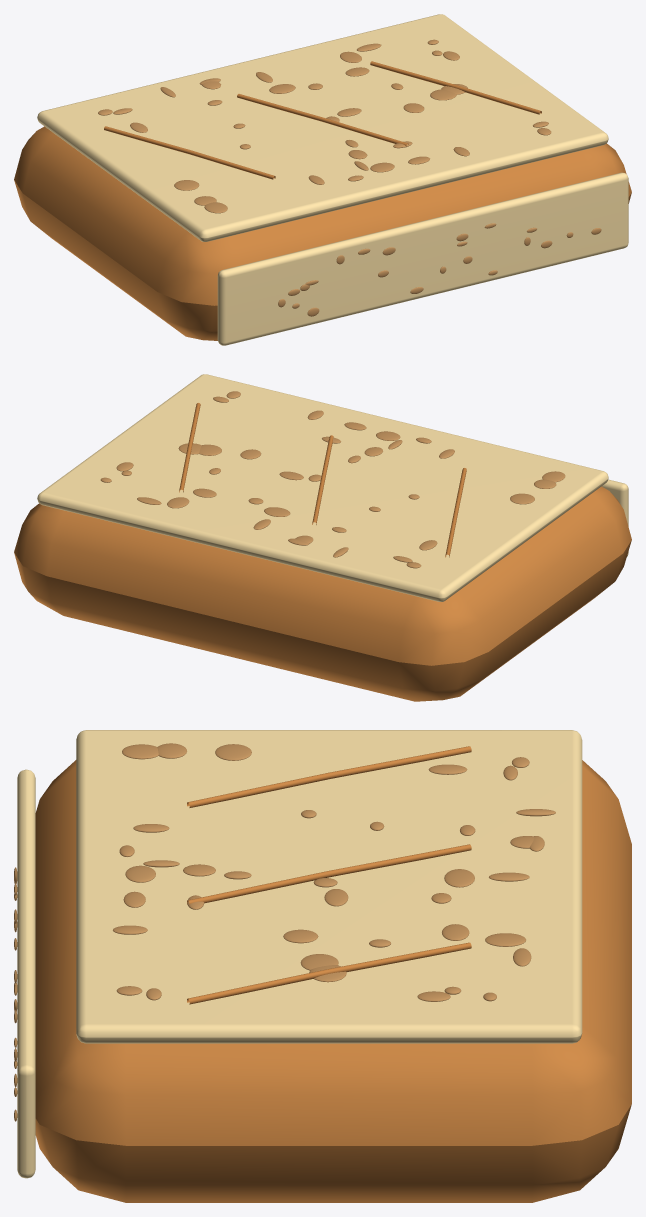
The model's file is bread.glb.
The picture shows the model from 3 angles, top to bottom: view 1: azimuth 30°, elevation 25°; view 2: azimuth 150°, elevation 25°; view 3: azimuth 270°, elevation 25°; orthographic projection. The views are drawn at different scales.
Parts seen in each view (by area): view 1: Batch Bread interior, Batch Golden baked crust, Batch Toasted pores; view 2: Batch Bread interior, Batch Golden baked crust, Batch Toasted pores; view 3: Batch Bread interior, Batch Golden baked crust, Batch Toasted pores.
Part boxes in pixels (box(x1,y1,x2,y2)): Batch Bread interior: box(37, 14, 628, 345); Batch Golden baked crust: box(14, 61, 631, 340); Batch Toasted pores: box(98, 39, 601, 316); Batch Bread interior: box(37, 374, 628, 601); Batch Golden baked crust: box(14, 403, 631, 701); Batch Toasted pores: box(100, 391, 565, 568); Batch Bread interior: box(17, 730, 582, 1178); Batch Golden baked crust: box(35, 746, 631, 1202); Batch Toasted pores: box(14, 743, 555, 1121).
Bounding box in the file's own units: 0.98 × 0.257 × 0.745.
